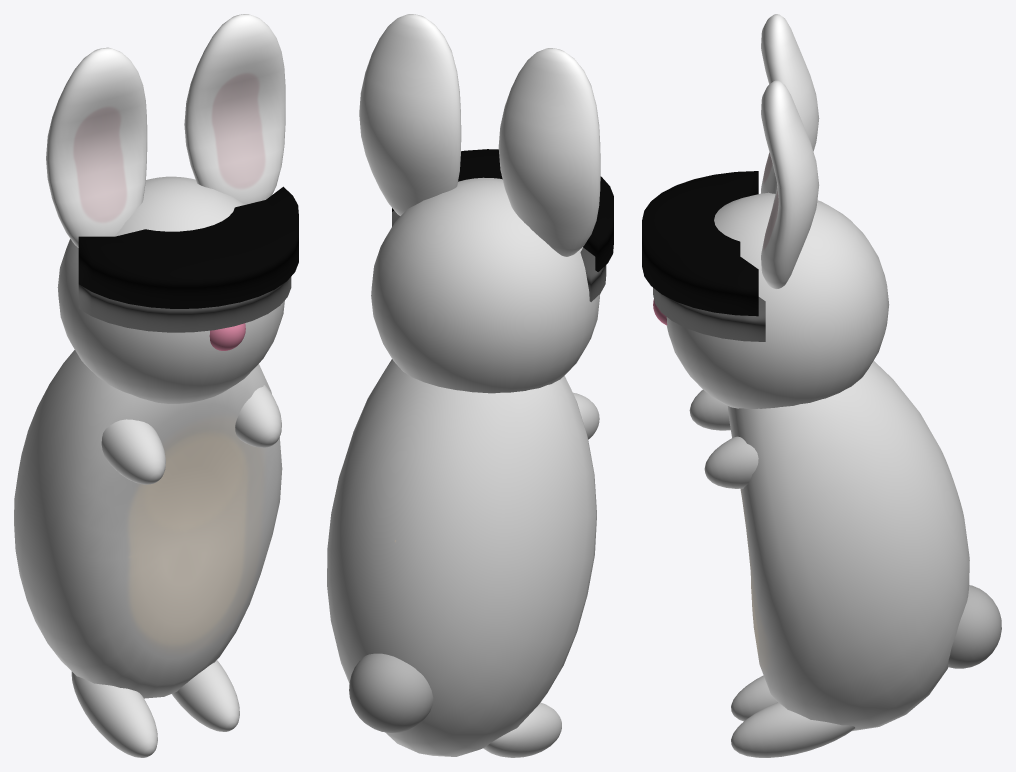
The model's file is rabbit.glb.
3 renders of one model, left to right at view 1: azimuth 30°, elevation 25°; view 2: azimuth 150°, elevation 25°; view 3: azimuth 270°, elevation 25°, orthographic. The views are drawn at different scales.
Visible parts, largest first — view 1: Sphere.004, Sphere, Cylinder, Sphere.002, Sphere.001, Cylinder.001, Sphere.008, Sphere.006, Sphere.009, Sphere.007, Sphere.003; view 2: Sphere.004, Sphere, Sphere.002, Sphere.001, Sphere.005, Cylinder, Sphere.008, Cylinder.001, Sphere.006; view 3: Sphere.004, Sphere, Cylinder, Sphere.001, Sphere.009, Sphere.002, Sphere.005, Cylinder.001, Sphere.007, Sphere.008, Sphere.006.
Boxes of the visible parts, x1=… form: Sphere.004: x1=14, y1=350, x2=282, y2=698; Sphere: x1=57, y1=176, x2=284, y2=403; Cylinder: x1=78, y1=186, x2=298, y2=308; Sphere.002: x1=46, y1=47, x2=147, y2=247; Sphere.001: x1=184, y1=14, x2=285, y2=204; Cylinder.001: x1=78, y1=277, x2=291, y2=332; Sphere.008: x1=71, y1=671, x2=157, y2=757; Sphere.006: x1=101, y1=419, x2=165, y2=484; Sphere.009: x1=172, y1=660, x2=239, y2=731; Sphere.007: x1=235, y1=385, x2=281, y2=447; Sphere.003: x1=209, y1=323, x2=245, y2=350; Sphere.004: x1=327, y1=359, x2=596, y2=756; Sphere: x1=371, y1=177, x2=600, y2=393; Sphere.002: x1=498, y1=48, x2=600, y2=256; Sphere.001: x1=359, y1=14, x2=461, y2=215; Sphere.005: x1=349, y1=653, x2=433, y2=732; Cylinder: x1=392, y1=149, x2=613, y2=271; Sphere.008: x1=483, y1=702, x2=561, y2=757; Cylinder.001: x1=392, y1=210, x2=606, y2=301; Sphere.006: x1=573, y1=392, x2=599, y2=439; Sphere.004: x1=728, y1=361, x2=969, y2=731; Sphere: x1=666, y1=192, x2=889, y2=408; Cylinder: x1=642, y1=171, x2=758, y2=316; Sphere.001: x1=761, y1=80, x2=819, y2=288; Sphere.009: x1=731, y1=702, x2=854, y2=757; Sphere.002: x1=761, y1=14, x2=819, y2=193; Sphere.005: x1=948, y1=585, x2=1001, y2=668; Cylinder.001: x1=653, y1=288, x2=765, y2=341; Sphere.007: x1=704, y1=436, x2=758, y2=488; Sphere.008: x1=731, y1=675, x2=777, y2=721; Sphere.006: x1=689, y1=390, x2=730, y2=430.
Size of the model in its own units: 2.4 by 6.81 by 3.2.
Materials: 7 (2 with a texture image).
